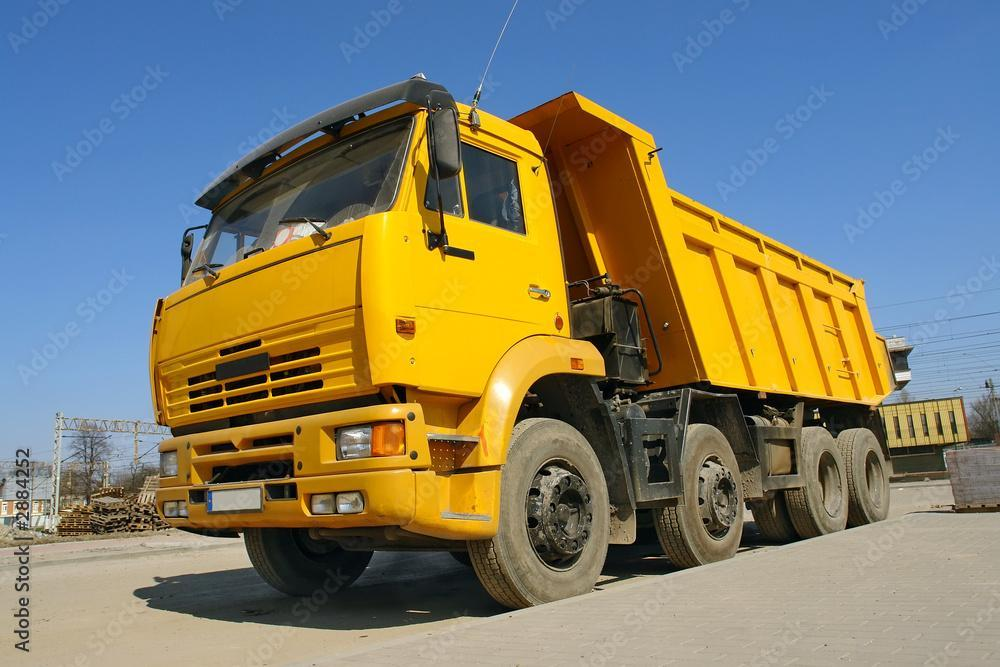truck: (100, 60, 925, 595)
